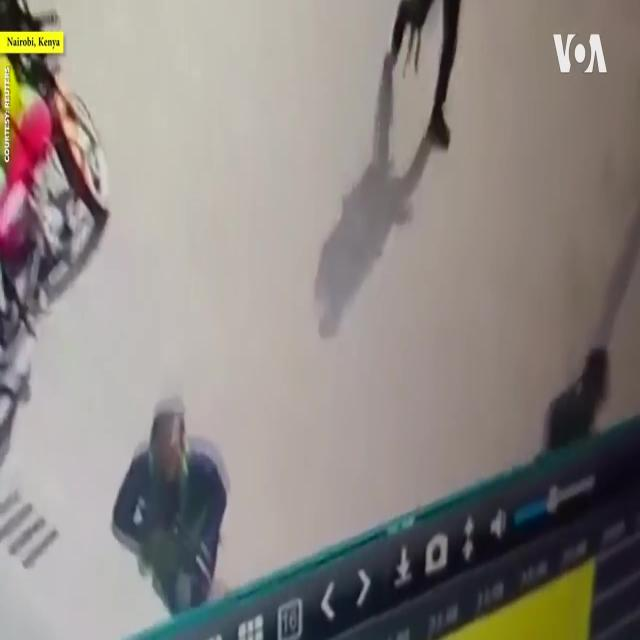Weapon: (150, 504, 207, 608), (396, 12, 437, 97)
